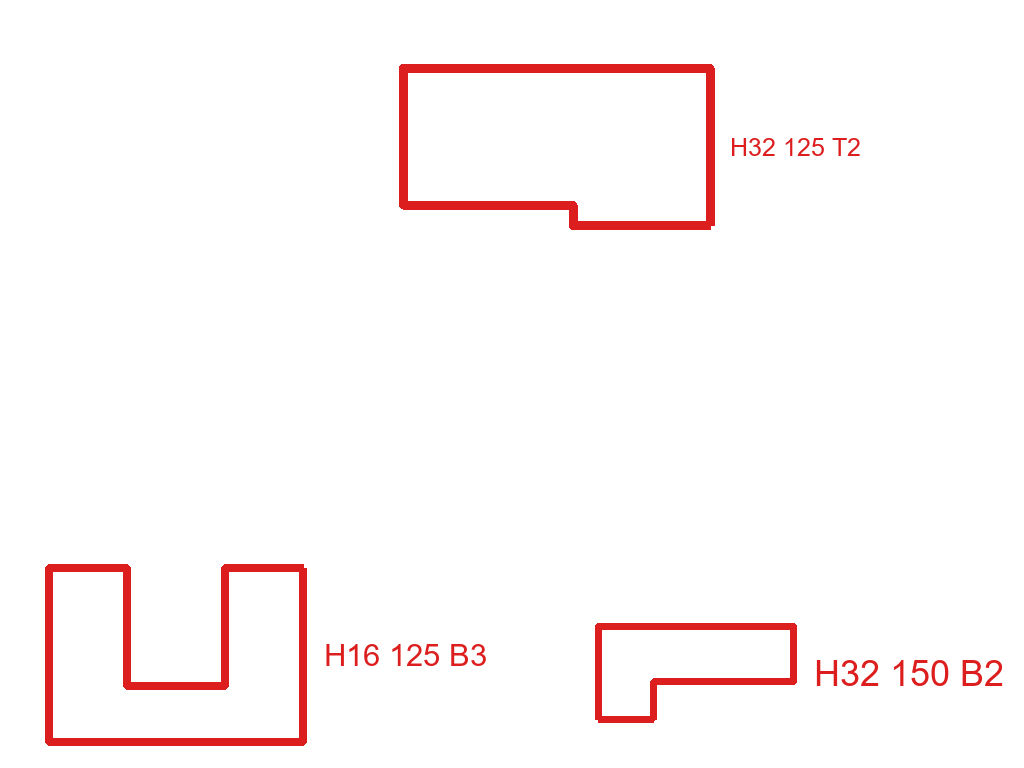shape: (397, 62, 717, 232), (42, 563, 310, 748), (593, 621, 799, 725)
text: (812, 658, 1006, 688), (322, 642, 489, 668), (728, 136, 863, 158)
